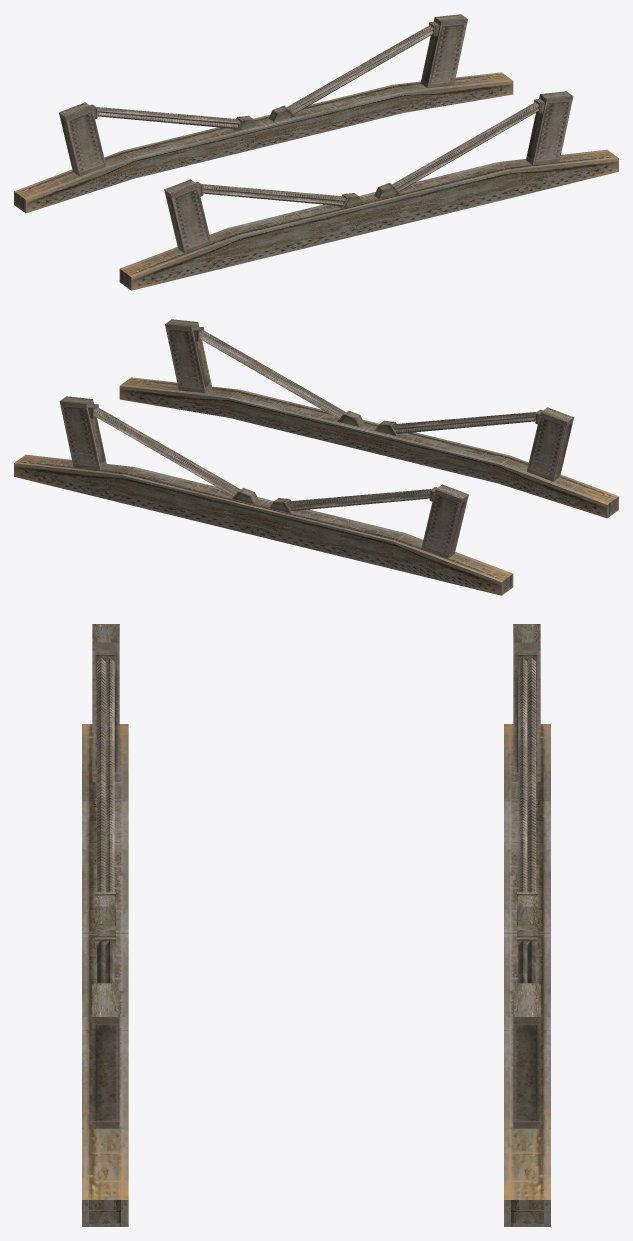
File: Bridge.glb
3 renders of one model, top to bottom at view 1: azimuth 30°, elevation 25°; view 2: azimuth 150°, elevation 25°; view 3: azimuth 270°, elevation 25°, orthographic. The views are drawn at different scales.
Parts seen in each view (by area): view 1: BRIDGE; view 2: BRIDGE; view 3: BRIDGE.
Part boxes in pixels (x1,y1,x2,y2): BRIDGE: [14, 14, 618, 290]; BRIDGE: [14, 319, 618, 595]; BRIDGE: [82, 624, 550, 1226].
Bounding box in the file's own units: 24 × 4.13 × 10.
8 materials, 8 textured.
